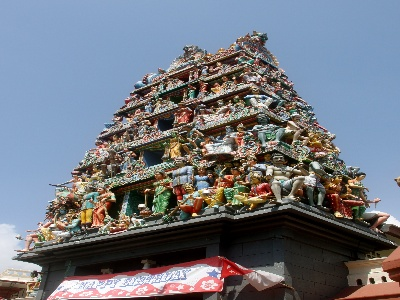gopura: (52, 45, 364, 237)
